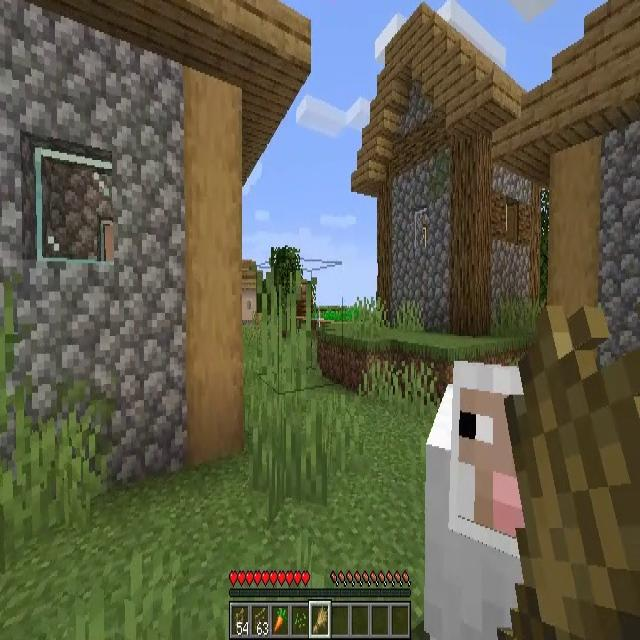sheep: (424, 361, 527, 640)
